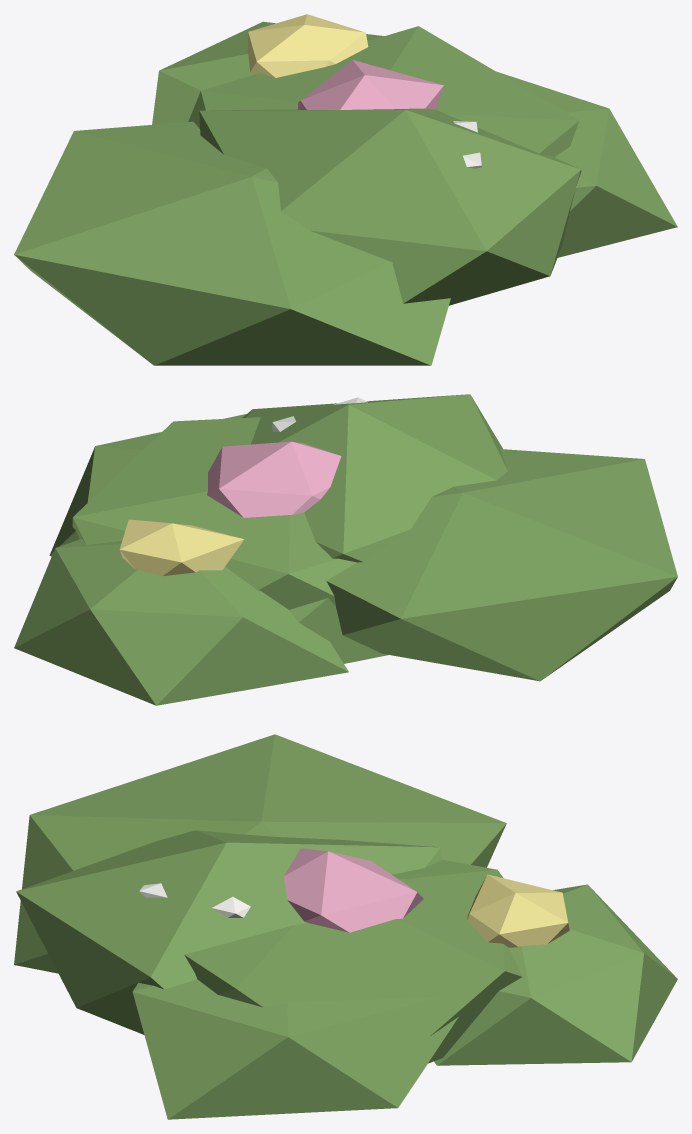
File: Wildflowers.glb
3 views of the same model, one above another, from view 1: azimuth 30°, elevation 25°; view 2: azimuth 150°, elevation 25°; view 3: azimuth 270°, elevation 25° (orthographic). The views are drawn at different scales.
Visible parts, largest first — view 1: Shrub clump.016, Shrub clump.018, Shrub clump.019, Shrub clump.021, Flowers.005, Shrub clump.017, Flowers.007; view 2: Shrub clump.016, Shrub clump.017, Shrub clump.018, Shrub clump.019, Flowers.007, Flowers.005, Shrub clump.021, Shrub clump.020; view 3: Shrub clump.016, Shrub clump.018, Shrub clump.021, Shrub clump.019, Shrub clump.017, Flowers.007, Flowers.005, Flowers.006.
Part boxes in pixels (bbox=[...]): Shrub clump.016: bbox=[14, 121, 450, 365]; Shrub clump.018: bbox=[199, 108, 581, 305]; Shrub clump.019: bbox=[188, 26, 579, 157]; Shrub clump.021: bbox=[496, 71, 677, 257]; Flowers.005: bbox=[247, 14, 368, 77]; Shrub clump.017: bbox=[152, 21, 384, 124]; Flowers.007: bbox=[297, 60, 443, 109]; Shrub clump.016: bbox=[326, 449, 677, 681]; Shrub clump.017: bbox=[14, 539, 348, 705]; Shrub clump.018: bbox=[242, 394, 507, 562]; Shrub clump.019: bbox=[72, 417, 356, 609]; Flowers.007: bbox=[207, 441, 341, 517]; Flowers.005: bbox=[119, 519, 244, 576]; Shrub clump.021: bbox=[49, 414, 246, 556]; Shrub clump.020: bbox=[289, 598, 387, 663]; Shrub clump.016: bbox=[14, 734, 506, 973]; Shrub clump.018: bbox=[16, 830, 440, 1034]; Shrub clump.021: bbox=[132, 979, 458, 1119]; Shrub clump.019: bbox=[184, 859, 522, 1063]; Shrub clump.017: bbox=[434, 884, 677, 1065]; Flowers.007: bbox=[284, 848, 423, 932]; Flowers.005: bbox=[467, 874, 569, 947]; Flowers.006: bbox=[139, 883, 250, 917].
Size of the model in its own units: 1.45 by 0.448 by 1.35.
